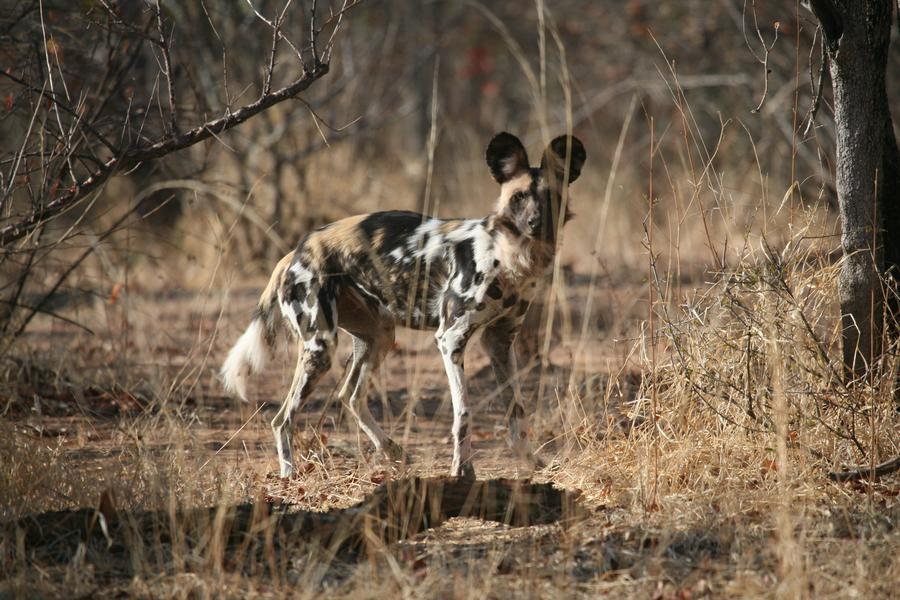wilddog: (263, 142, 581, 448)
